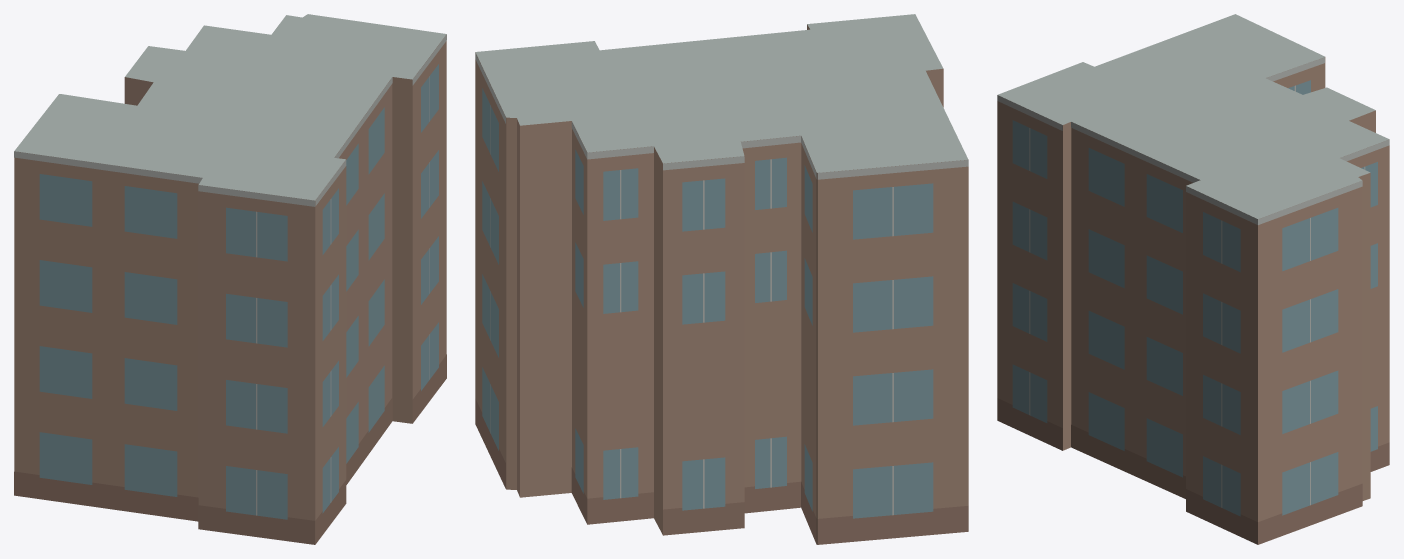
File: survey-upis-32614378.glb
3 renders of one model, left to right at view 1: azimuth 30°, elevation 25°; view 2: azimuth 150°, elevation 25°; view 3: azimuth 270°, elevation 25°, orthographic. The views are drawn at different scales.
Parts seen in each view (by area): view 1: survey-upis-32614378.tmp; view 2: survey-upis-32614378.tmp; view 3: survey-upis-32614378.tmp.
Part boxes in pixels (box(x1,y1,x2,y2)): survey-upis-32614378.tmp: box(14, 14, 446, 544); survey-upis-32614378.tmp: box(475, 14, 968, 544); survey-upis-32614378.tmp: box(997, 14, 1389, 544).
Bounding box in the file's own units: 17.84 × 13.2 × 14.42.
